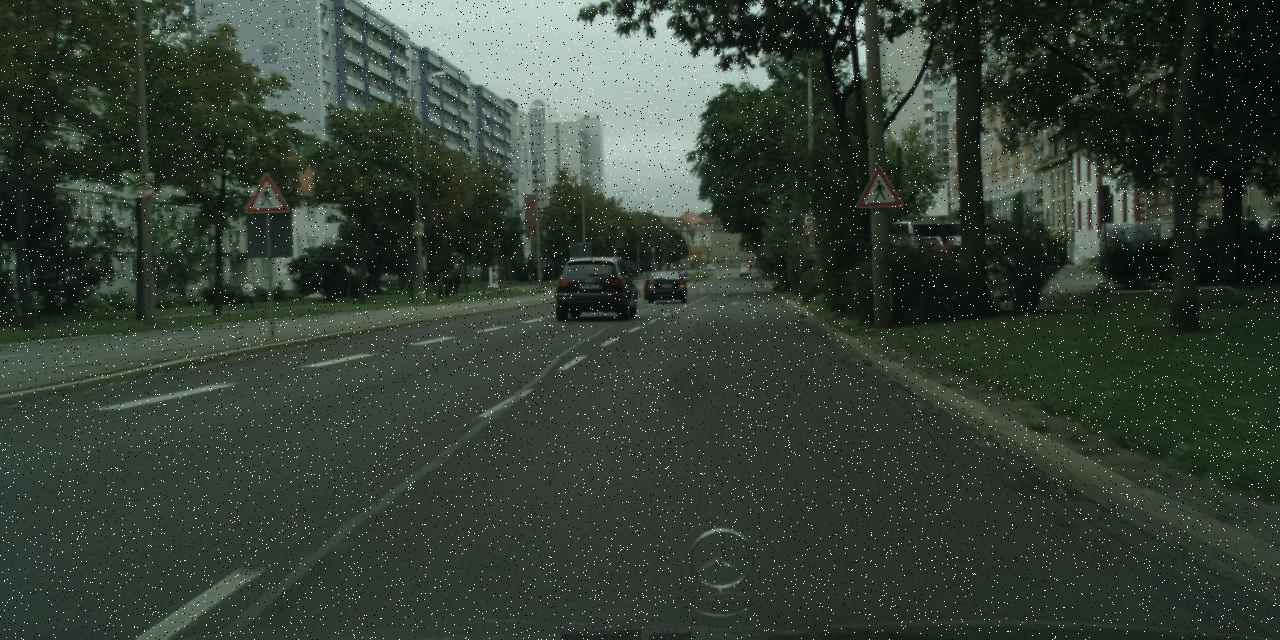ped: (243, 280, 254, 309), (444, 272, 454, 294), (451, 270, 460, 294), (538, 268, 544, 284), (526, 270, 532, 286)
